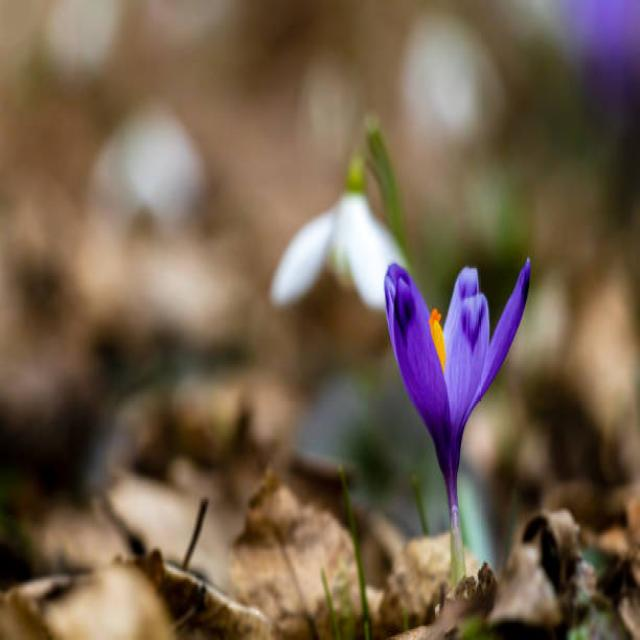saffron open: (384, 261, 530, 587)
